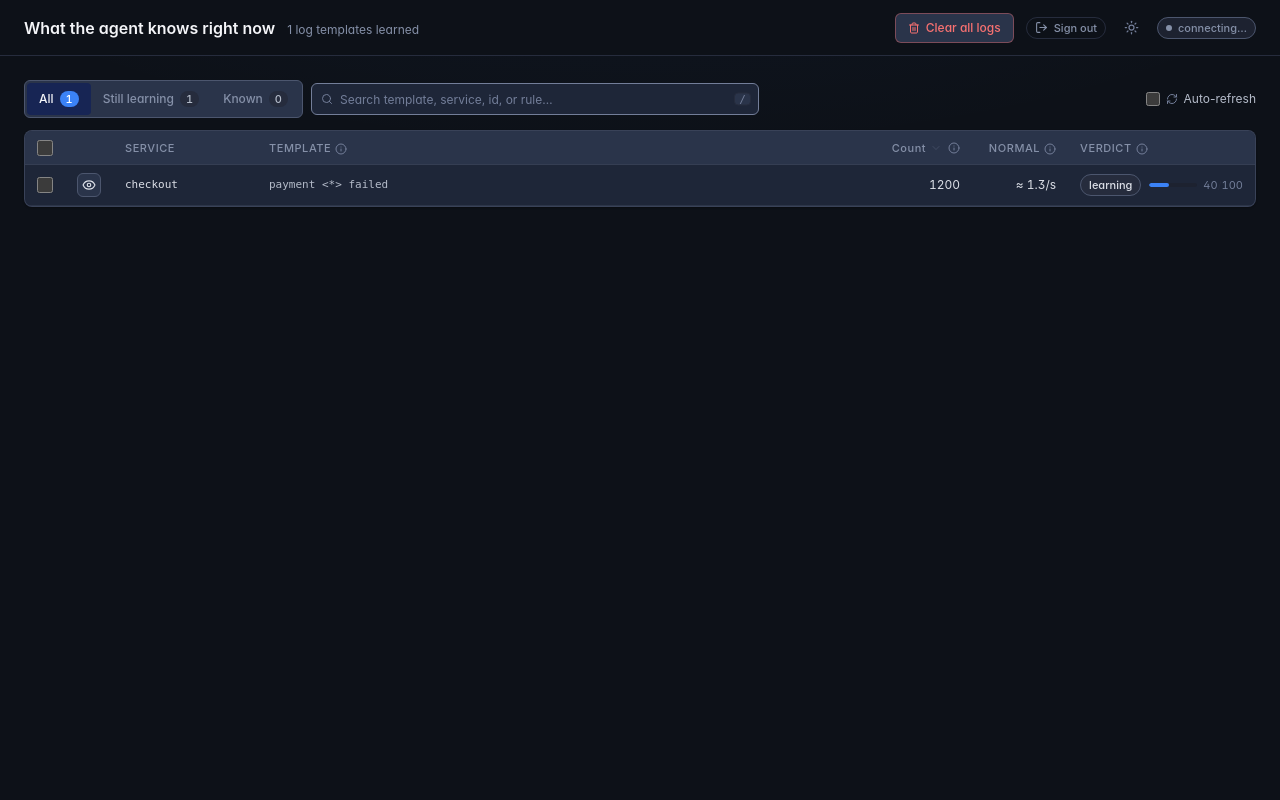
Scenario: PatternsPage peek — fetches the pattern DETAIL › renders the detail's baselines incl. the warmed hour-of-day cell
Click the button titled "View details": x=89, y=185 [77,173,101,197]
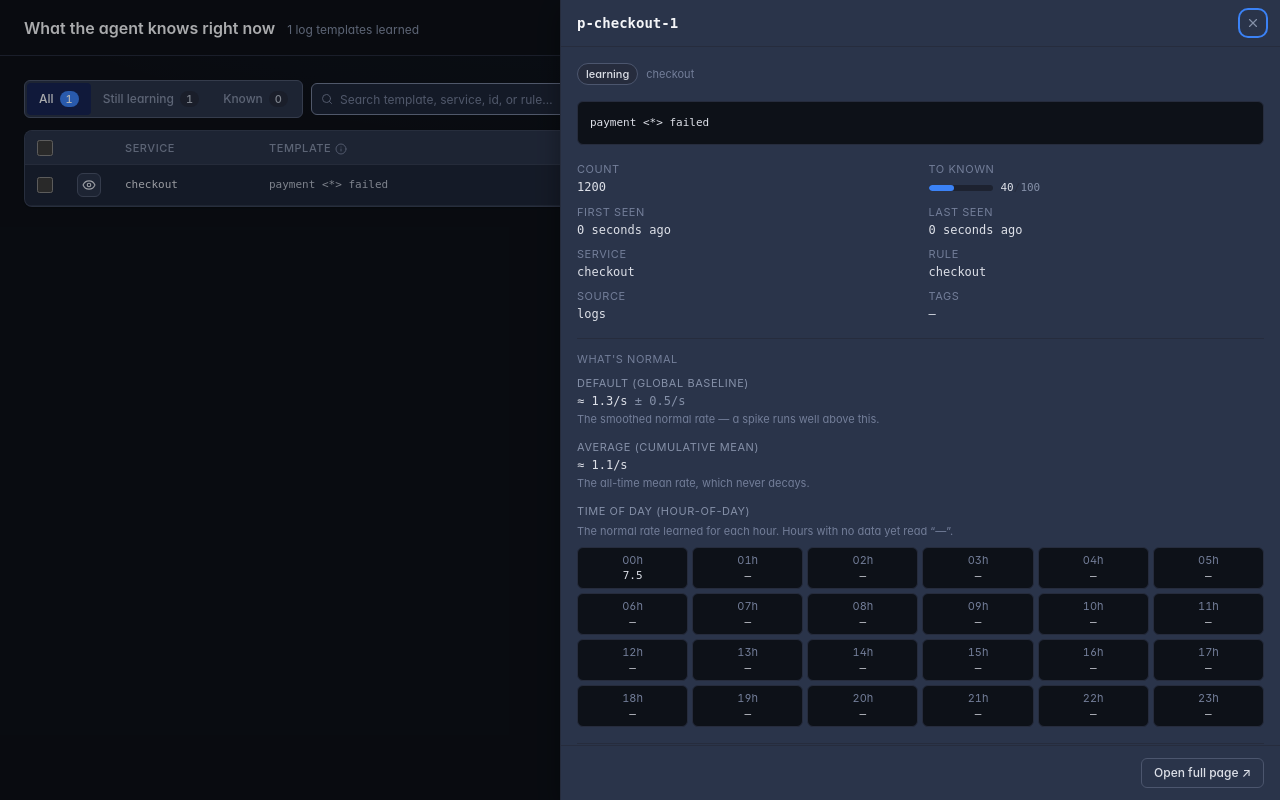
expect the text "7.5" is shown: met, box [623,569,642,582]
expect the text "≈ 1.1/s" is shown: met, box [577,458,628,472]
